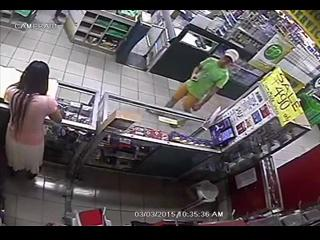Normal: (4, 60, 64, 180), (164, 49, 240, 113)
